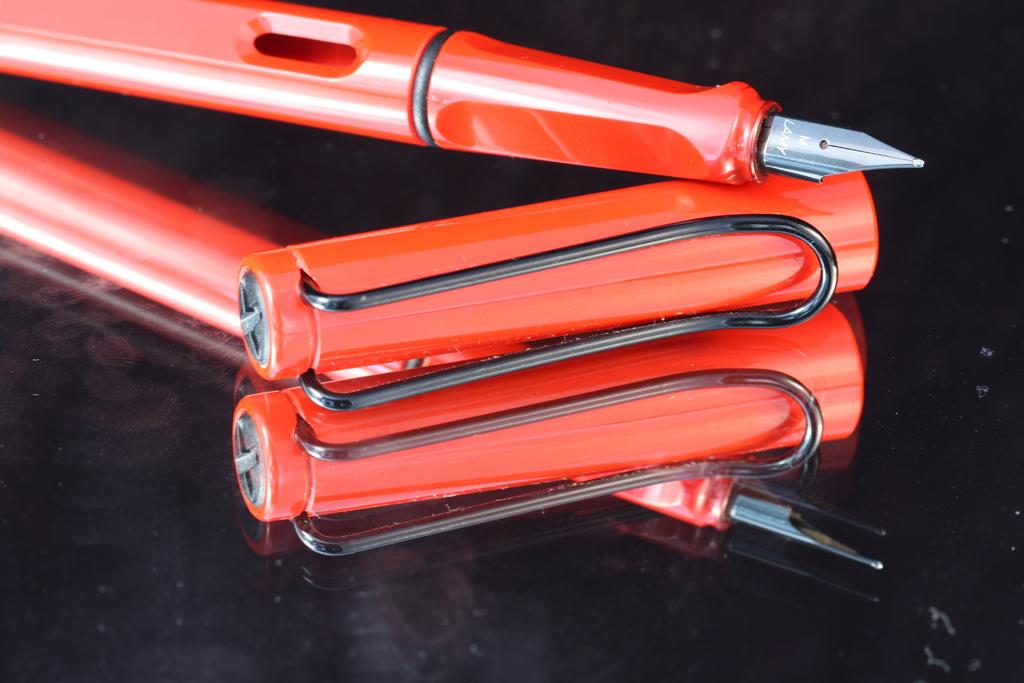pen: (0, 101, 897, 582), (0, 0, 925, 193)
